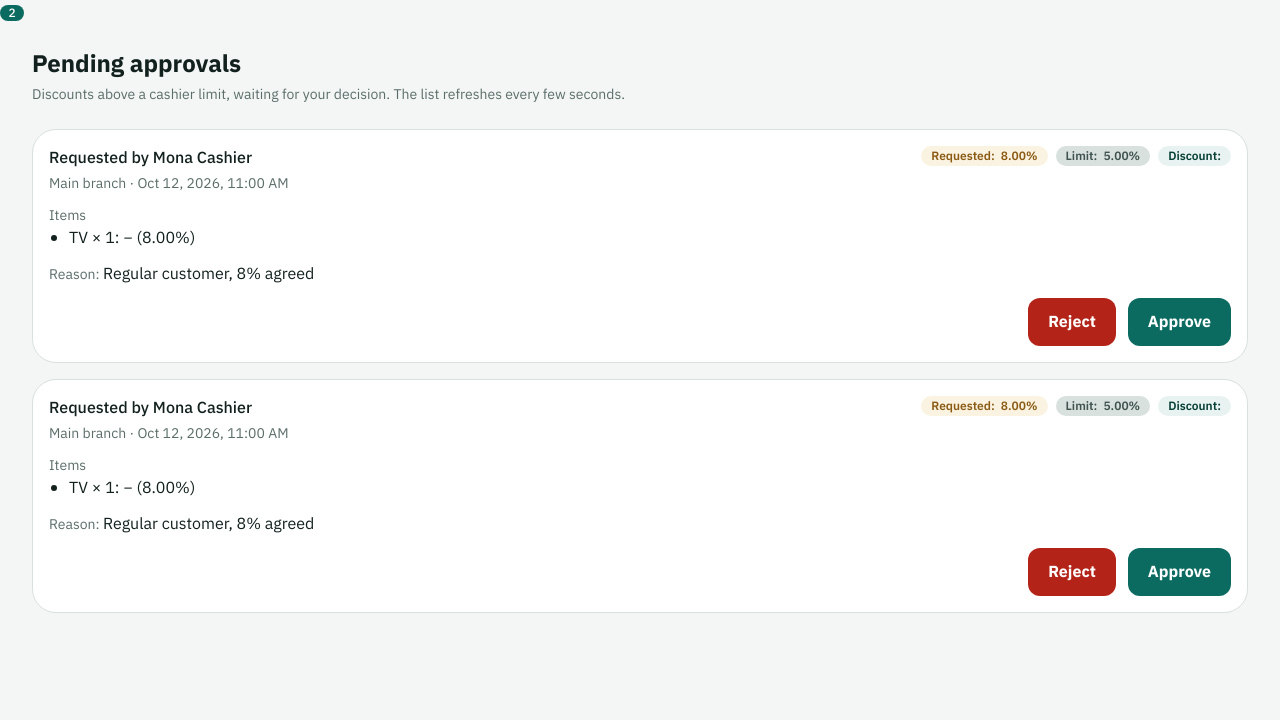
Test: S03 manager approvals page › approve sends the right body with the note, then the list and the badge update
Check: the text named "2 waiting" is shown, box left=0, top=5, right=24, bottom=21
Click the 1st button "Approve" at (1179, 322), box left=1128, top=298, right=1231, bottom=346
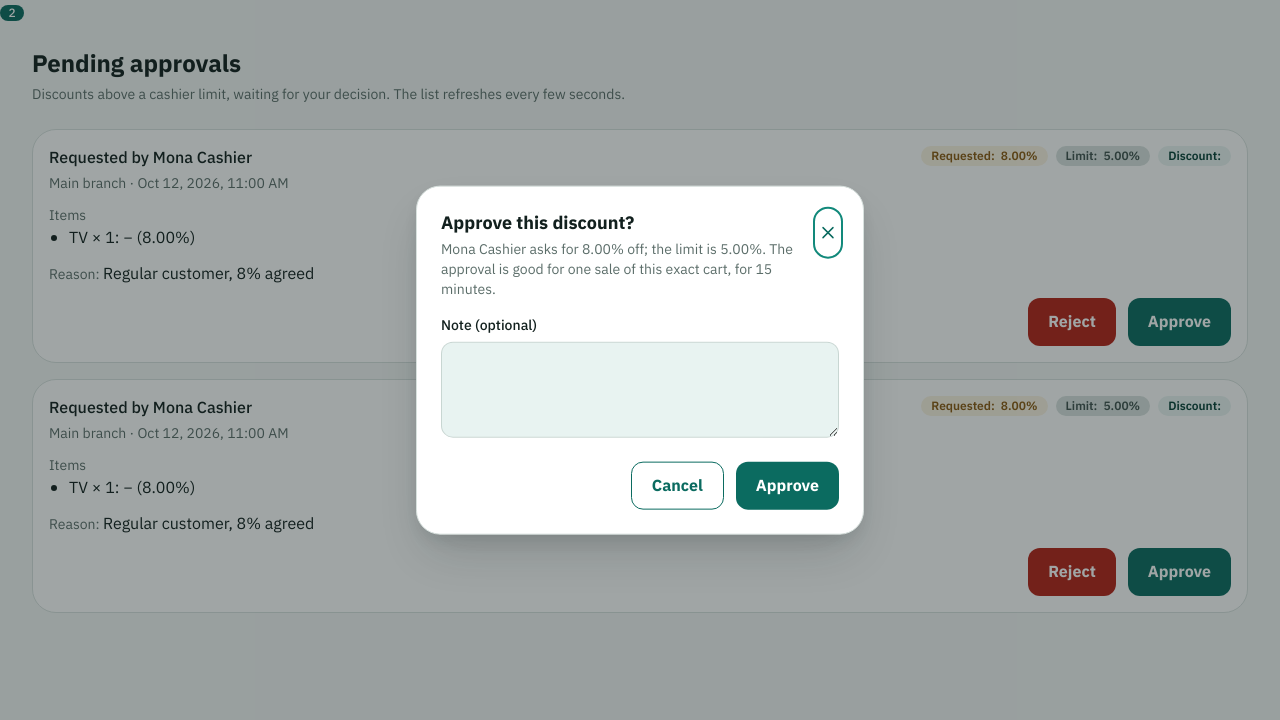
Type "Fine" into the text box labelled "Note (optional)" at (640, 389), box left=441, top=341, right=839, bottom=437
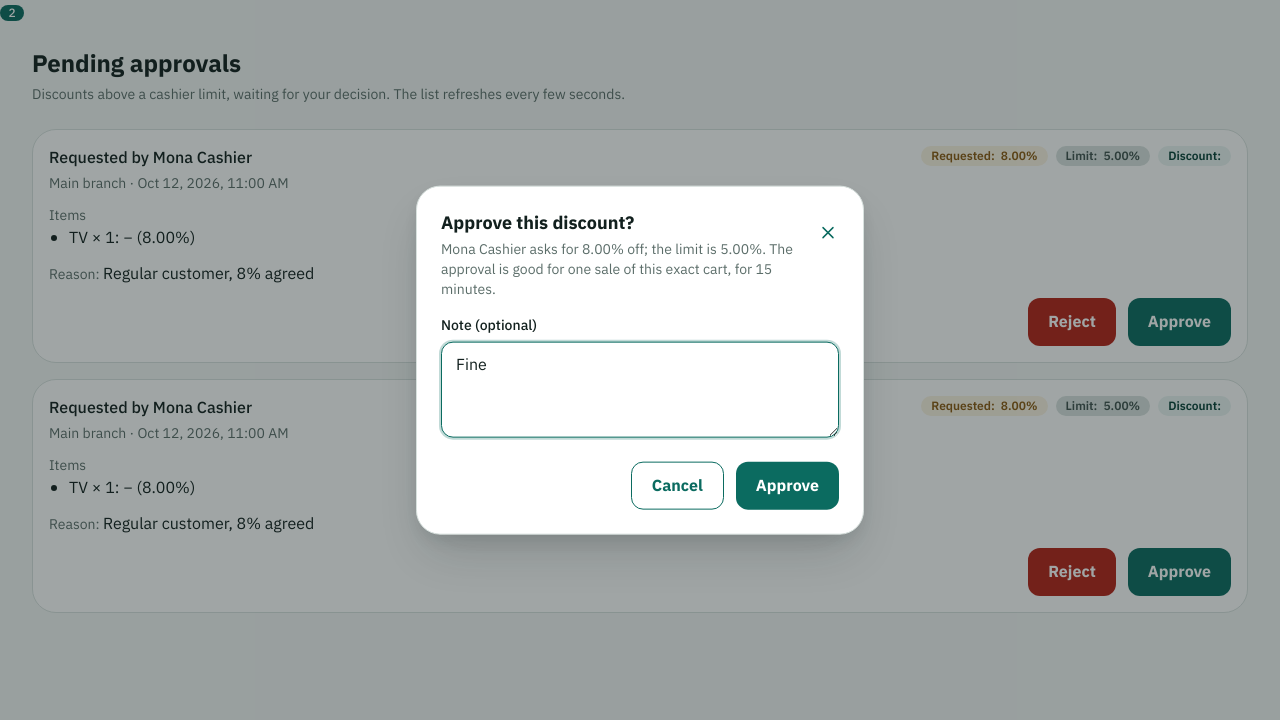
Click the button "Approve" at (787, 485), box left=736, top=461, right=839, bottom=509
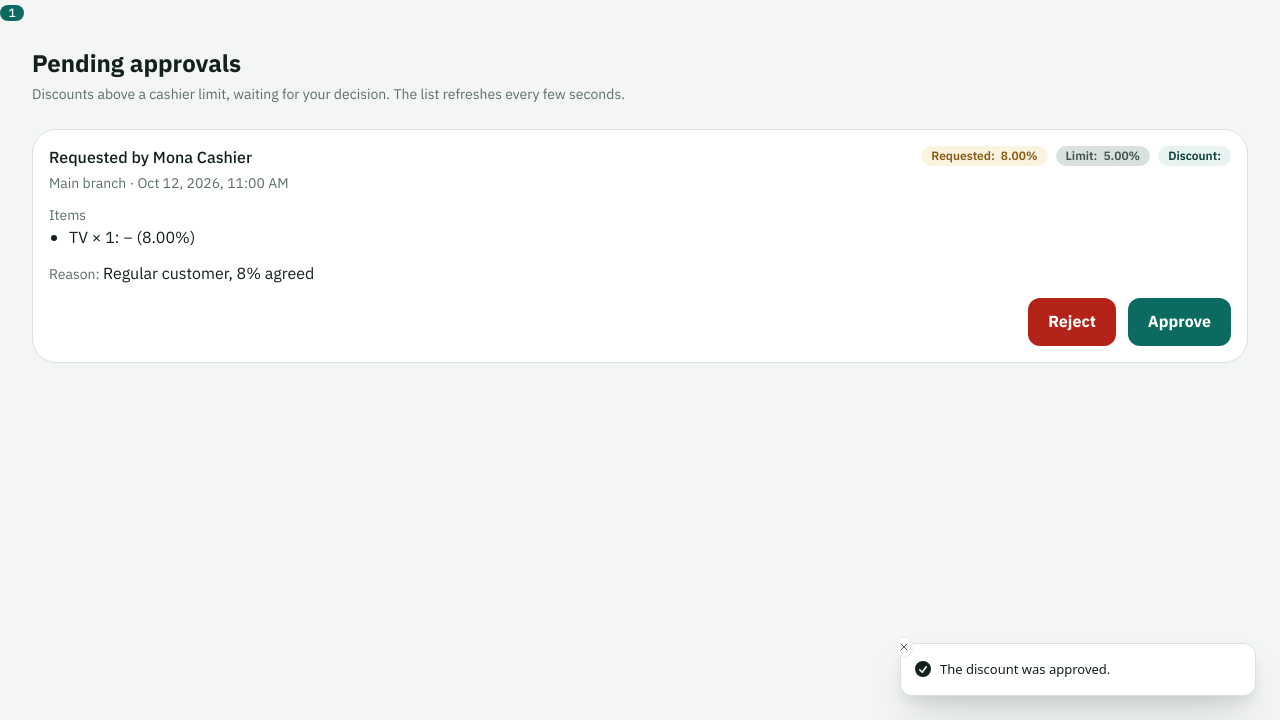
Check: the text named "1 waiting" is shown, box left=0, top=5, right=24, bottom=21
